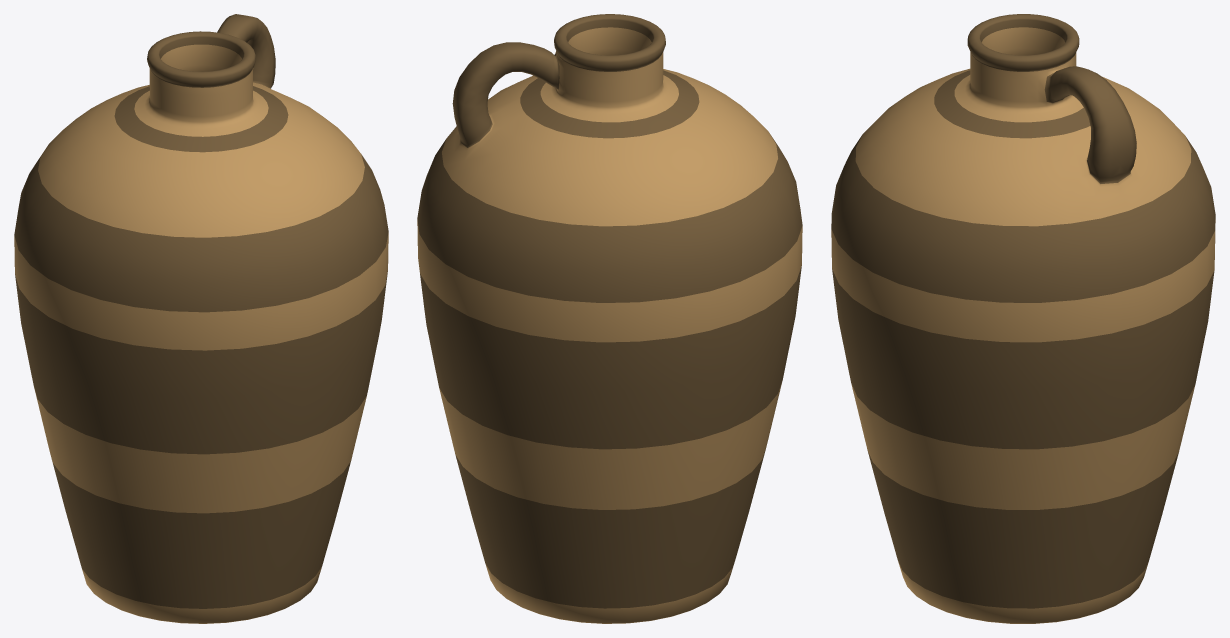
The model's file is Vase1.fbx.
3 views of the same model, side by side, from view 1: azimuth 30°, elevation 25°; view 2: azimuth 150°, elevation 25°; view 3: azimuth 270°, elevation 25° (orthographic). The views are drawn at different scales.
Parts seen in each view (by area): view 1: 1; view 2: 1; view 3: 1.
Part boxes in pixels (left/top/right/bottom): 1: left=14, top=14, right=388, bottom=623; 1: left=417, top=14, right=802, bottom=623; 1: left=831, top=14, right=1215, bottom=623.
Size of the model in its own units: 0.3855 by 0.5967 by 0.3855.
